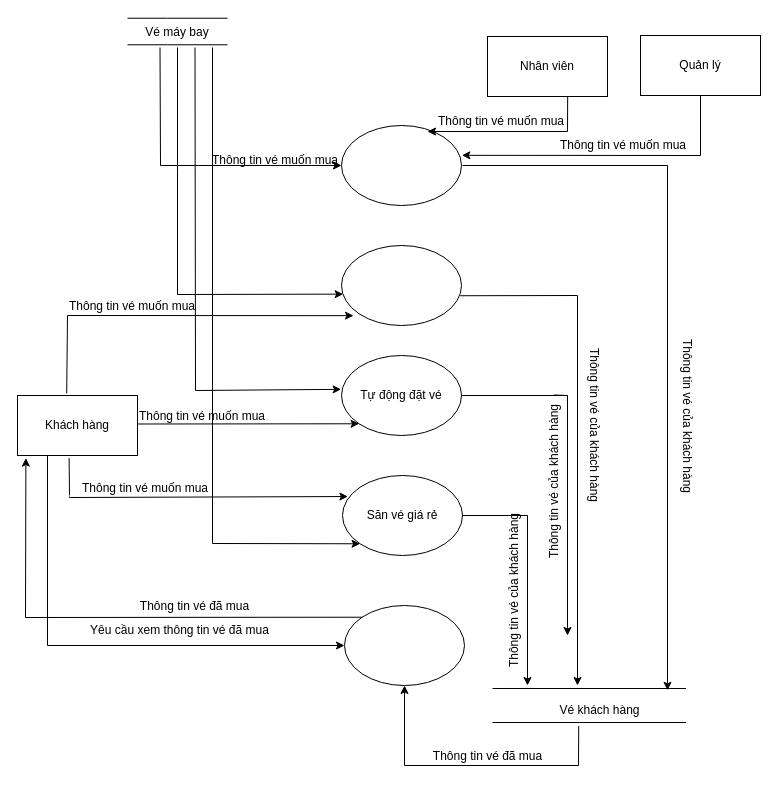
Image size: 778x791. Some labels were removed from this diagram. Here are the shapes that lost their labels. From the top down, the centre of each, then its label:
At point (401, 165): "Bán vé tại quầy".
At point (401, 285): "Đặt vé online".
At point (404, 645): "Xem vé đã mua".
